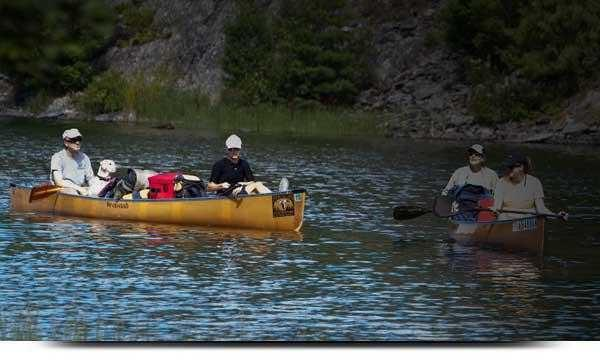kayak: (10, 181, 307, 232), (448, 215, 547, 256)
